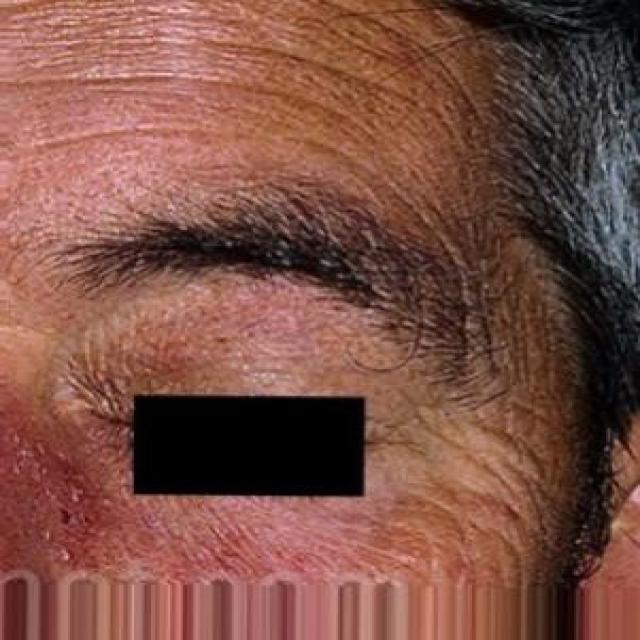Rosacea: (112, 498, 458, 586), (0, 382, 107, 581)
